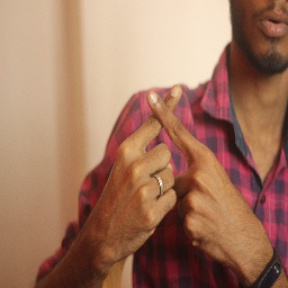X: (110, 73, 219, 181)
